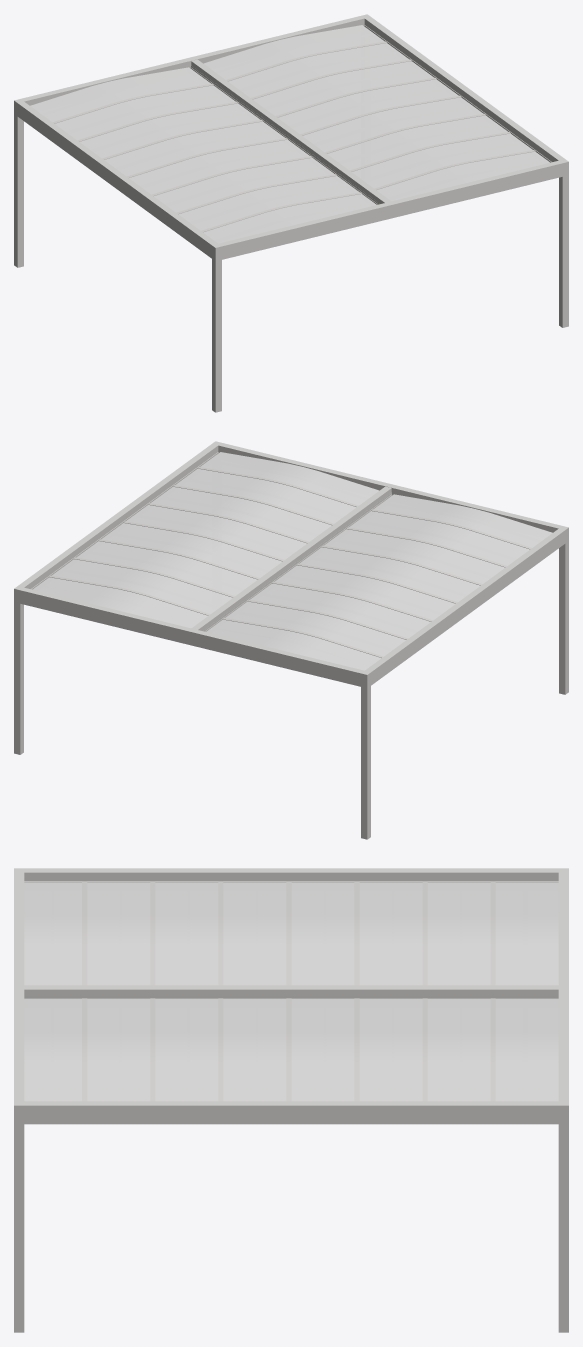
File: hyrcaryaad-h24-w54-d53_matwhite.fbx
3 views of the same model, one above another, from view 1: azimuth 30°, elevation 25°; view 2: azimuth 150°, elevation 25°; view 3: azimuth 270°, elevation 25° (orthographic). The views are drawn at different scales.
Visible parts, largest first — view 1: hyrcaryaad-h24-w54-d53-matwhite; view 2: hyrcaryaad-h24-w54-d53-matwhite; view 3: hyrcaryaad-h24-w54-d53-matwhite.
Boxes of the visible parts, x1=… form: hyrcaryaad-h24-w54-d53-matwhite: x1=14, y1=14, x2=568, y2=412; hyrcaryaad-h24-w54-d53-matwhite: x1=14, y1=441, x2=568, y2=839; hyrcaryaad-h24-w54-d53-matwhite: x1=14, y1=868, x2=568, y2=1332.
Bounding box in the file's own units: 550 × 245 × 543.
2 materials, 1 textured.
